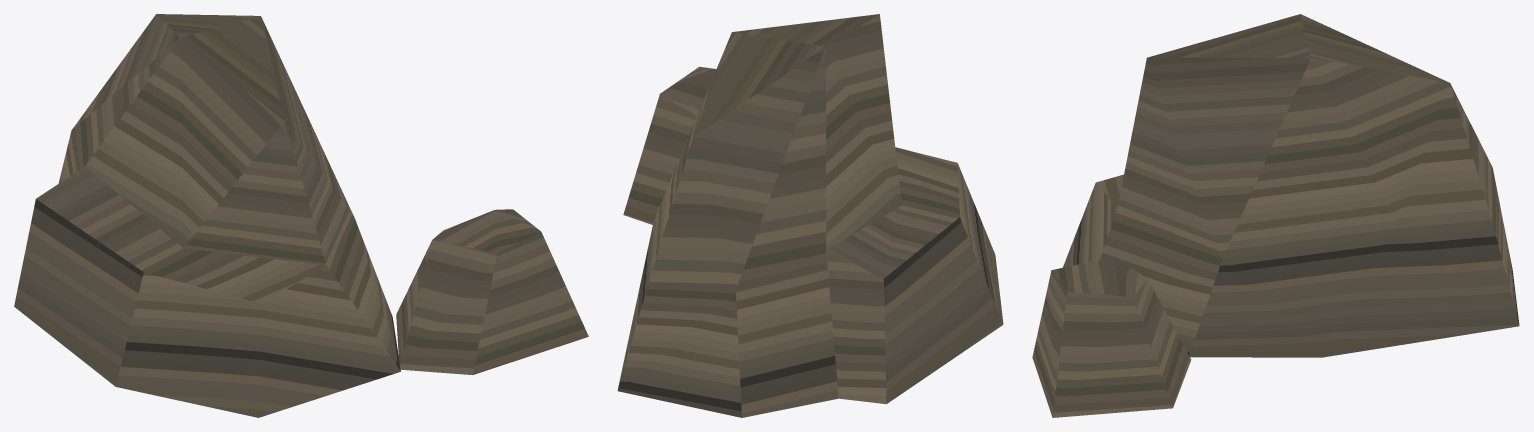
File: rock_gformation1_hdtex.glb
3 renders of one model, left to right at view 1: azimuth 30°, elevation 25°; view 2: azimuth 150°, elevation 25°; view 3: azimuth 270°, elevation 25°, orthographic. The views are drawn at different scales.
Parts seen in each view (by area): view 1: Rock_GFormation1; view 2: Rock_GFormation1; view 3: Rock_GFormation1.
Part boxes in pixels (x1=…): Rock_GFormation1: x1=14, y1=14, x2=588, y2=417; Rock_GFormation1: x1=617, y1=14, x2=1003, y2=417; Rock_GFormation1: x1=1032, y1=14, x2=1519, y2=417.
Size of the model in its own units: 22.84 by 15.29 by 24.56.
1 material, 1 textured.
